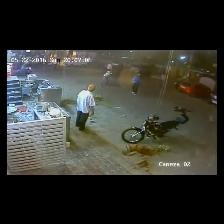person: (76, 85, 95, 130), (132, 74, 141, 95), (101, 71, 111, 86), (21, 64, 28, 73), (53, 58, 57, 69), (107, 62, 112, 70)
